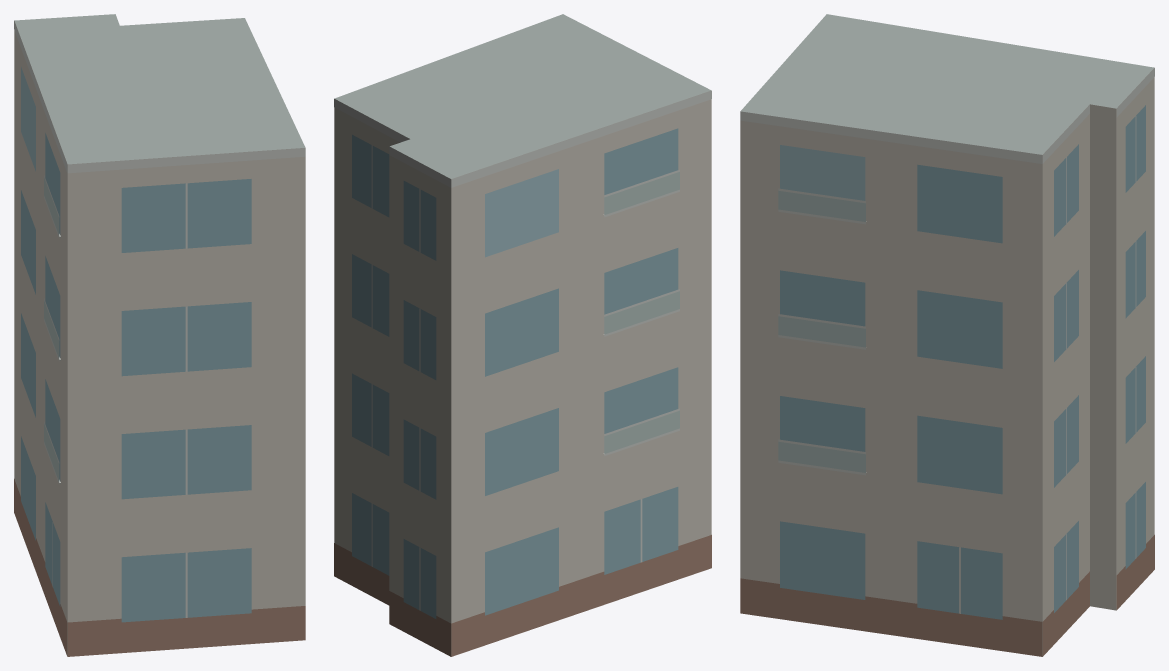
The model's file is survey-upis-33035352.glb.
3 renders of one model, left to right at view 1: azimuth 30°, elevation 25°; view 2: azimuth 150°, elevation 25°; view 3: azimuth 270°, elevation 25°, orthographic. The views are drawn at different scales.
Visible parts, largest first — view 1: survey-upis-33035352.tmp; view 2: survey-upis-33035352.tmp; view 3: survey-upis-33035352.tmp.
Part boxes in pixels (x1,y1,x2,y2): survey-upis-33035352.tmp: (14,14,305,656); survey-upis-33035352.tmp: (334,14,711,656); survey-upis-33035352.tmp: (740,14,1154,656).
Bounding box in the file's own units: 8.05 × 13.35 × 10.
